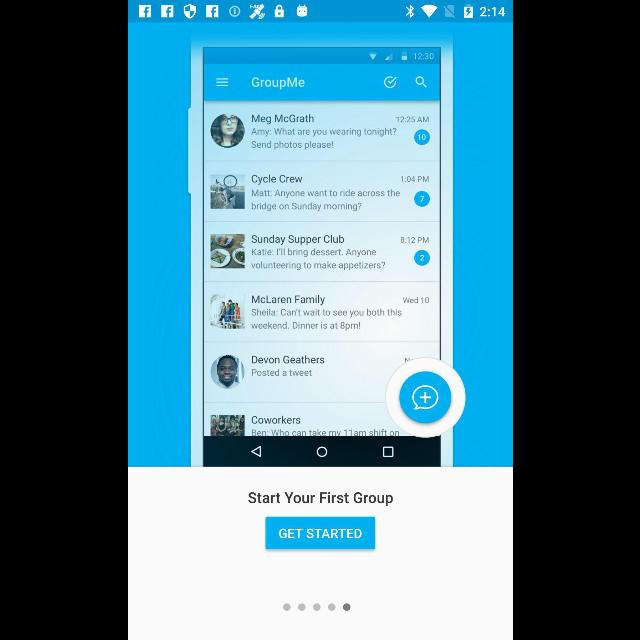image: (186, 24, 464, 466)
pageindicator: (282, 602, 350, 612)
text: (248, 492, 392, 506)
textbutton: (265, 516, 375, 550)
uppertaskbar: (128, 1, 512, 23)
